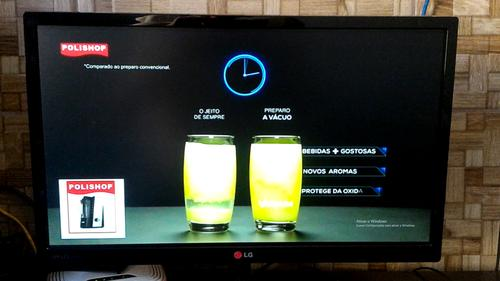Polishop #1: (57, 178, 126, 239)
